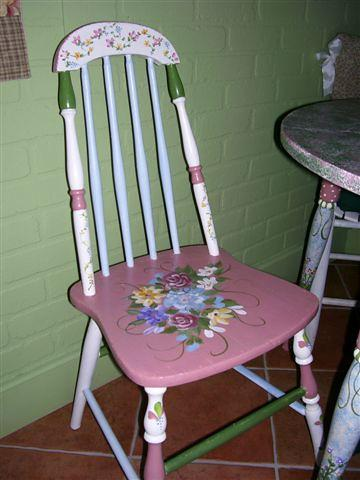chair: (52, 21, 326, 480)
